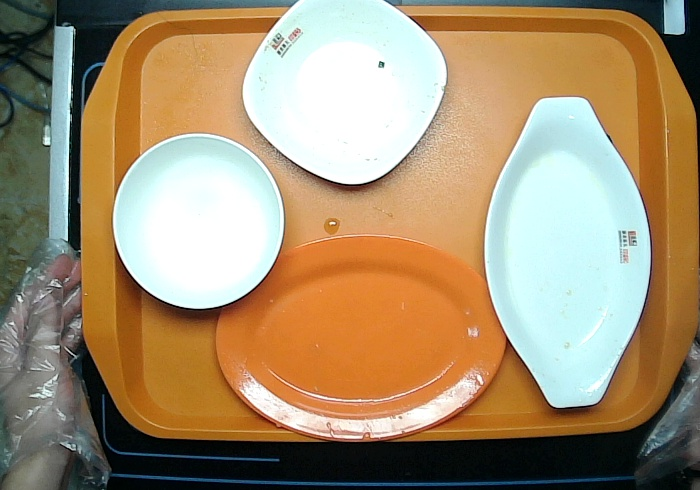NLDX-Bai_Se_Xiao_Fang_Die: (242, 1, 449, 187)
NLDX-Fan_Wan: (110, 134, 283, 311)
NLDX-Ju_Se_Pan: (215, 234, 506, 444)
NLDX-Yu_Pan: (484, 95, 651, 409)
